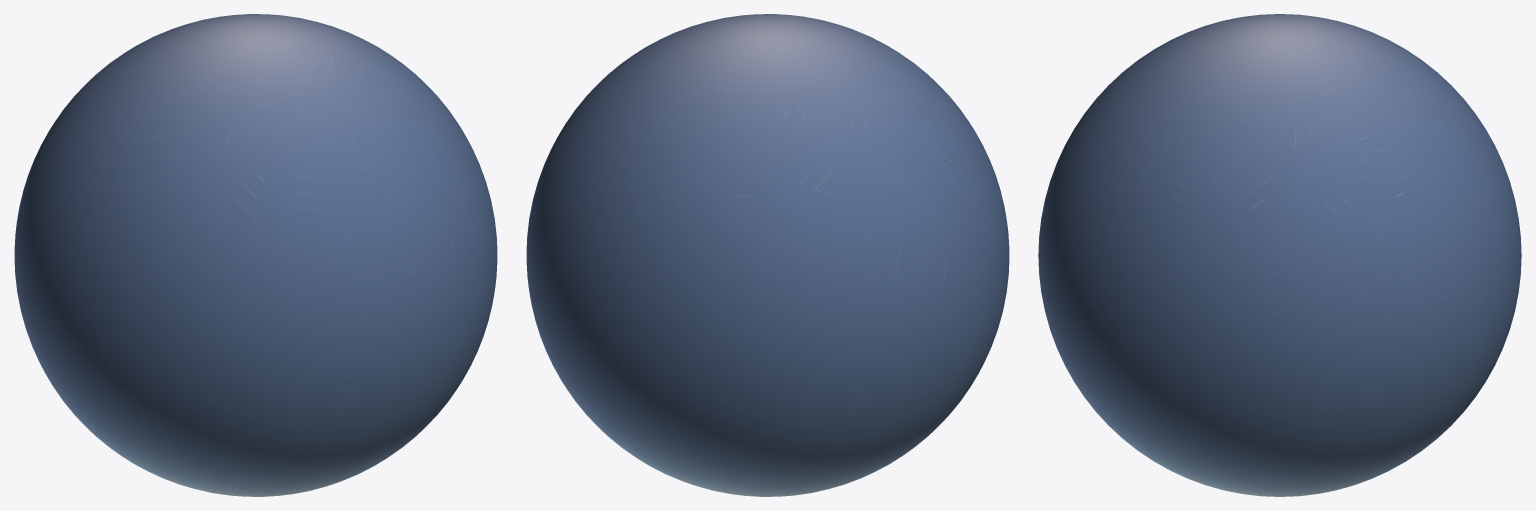
The model's file is sky_sphere.fbx.
The picture shows the model from 3 angles, left to right: view 1: azimuth 30°, elevation 25°; view 2: azimuth 150°, elevation 25°; view 3: azimuth 270°, elevation 25°; orthographic projection.
Visible parts, largest first — view 1: Icosphere; view 2: Icosphere; view 3: Icosphere.
Boxes of the visible parts, <box> form: Icosphere: <box>14,14,497,496</box>; Icosphere: <box>526,14,1009,496</box>; Icosphere: <box>1038,14,1521,496</box>.
Bounding box in the file's own units: 20000 × 20000 × 20000.
Materials: 1 (1 with a texture image).
